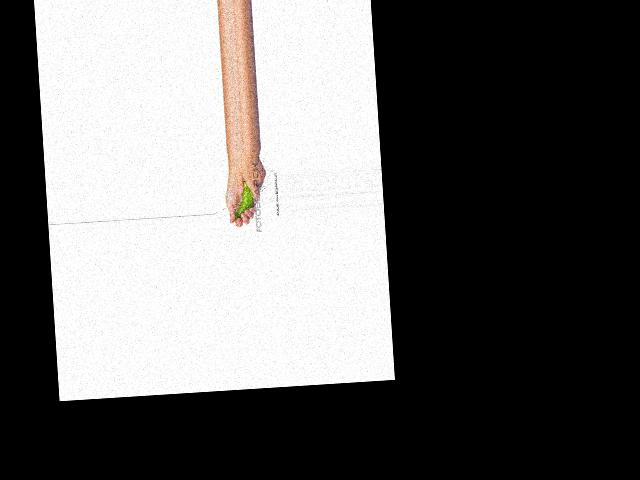cucumber: (233, 179, 255, 219)
